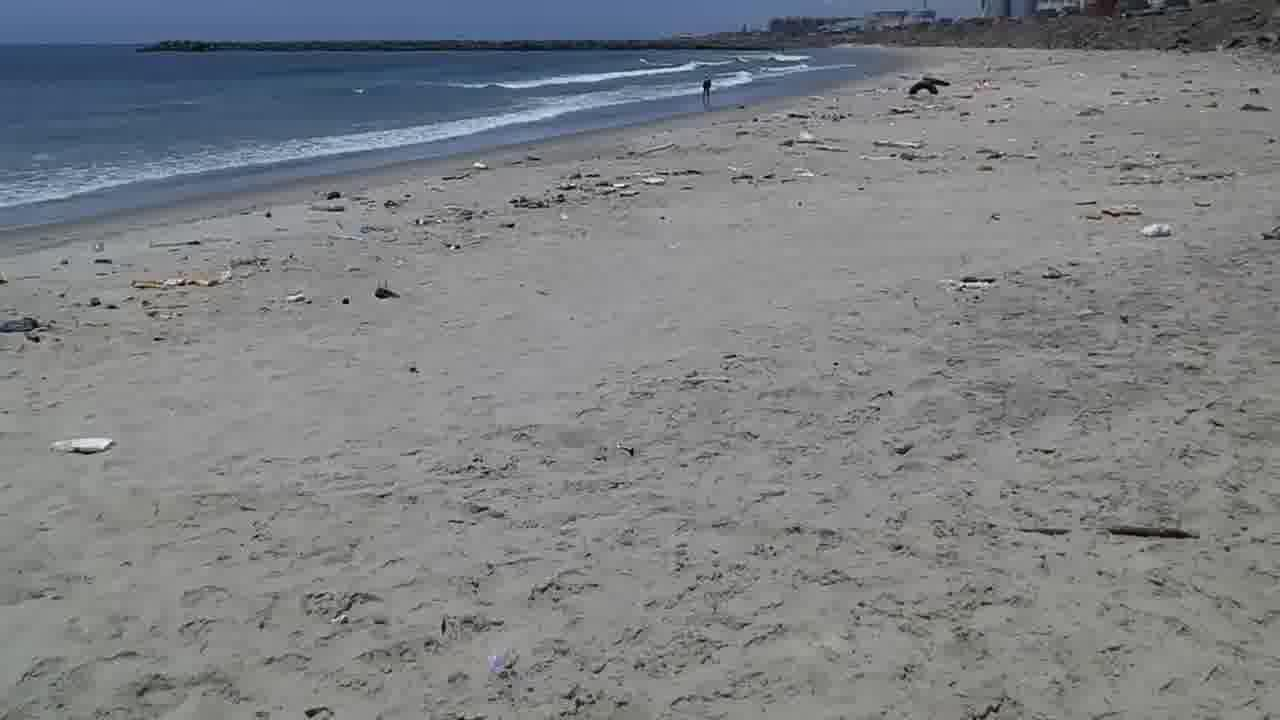large collection of objects: (702, 74, 712, 105)
obj: (788, 119, 939, 161), (1062, 525, 1209, 547), (42, 425, 110, 465), (366, 271, 403, 300), (1131, 222, 1172, 244), (906, 77, 953, 96)
sand/background: (0, 0, 1279, 239)
